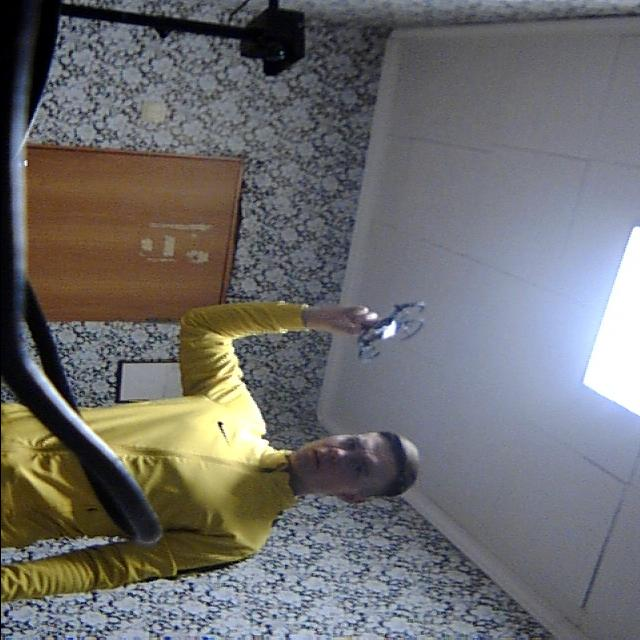drone: (342, 293, 448, 377)
